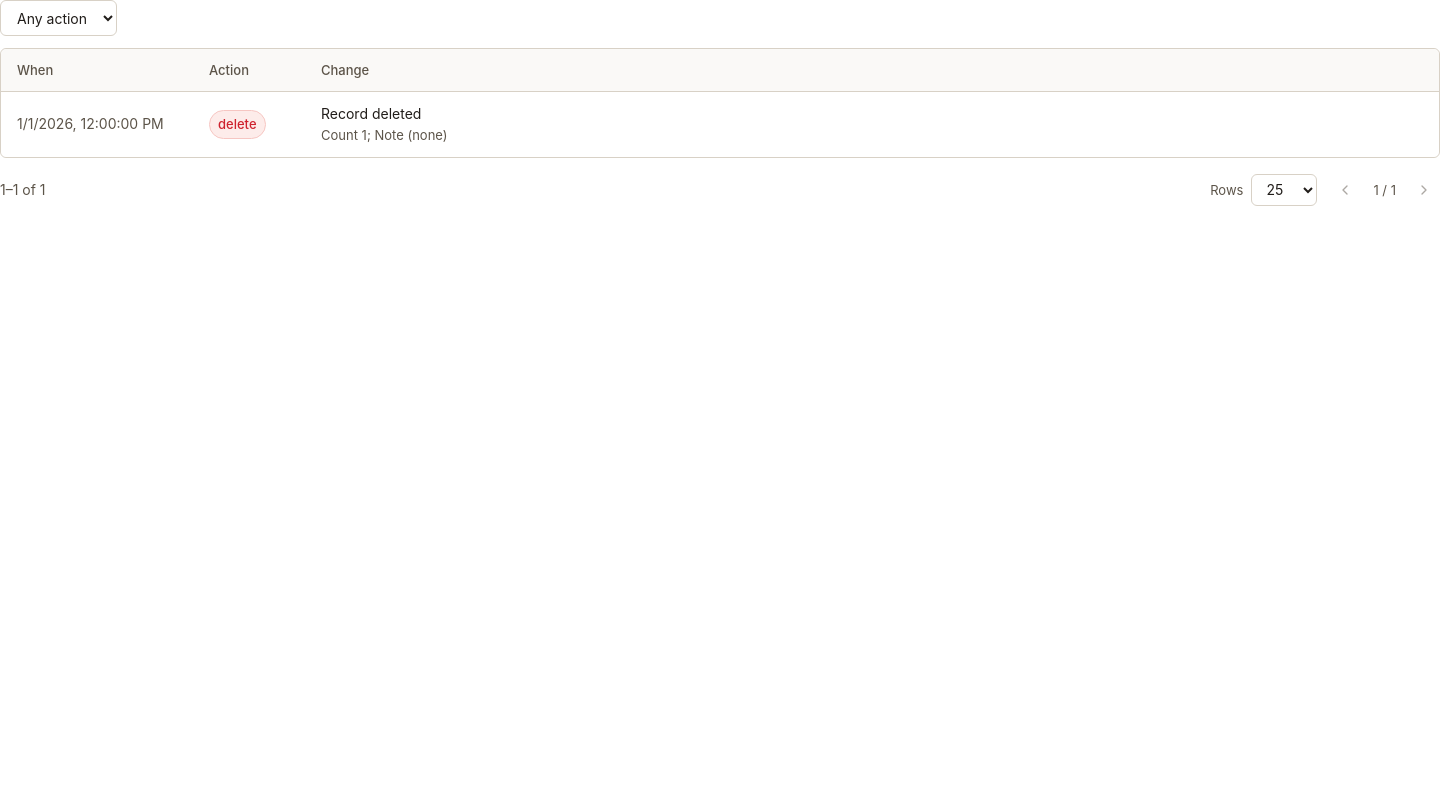
Test: AuditTrail › restores a deleted record through the restore window, which names what is in the way
The image size is (1440, 810).
Click the text "Record deleted".
click(371, 114)  # box left=321, top=105, right=421, bottom=122
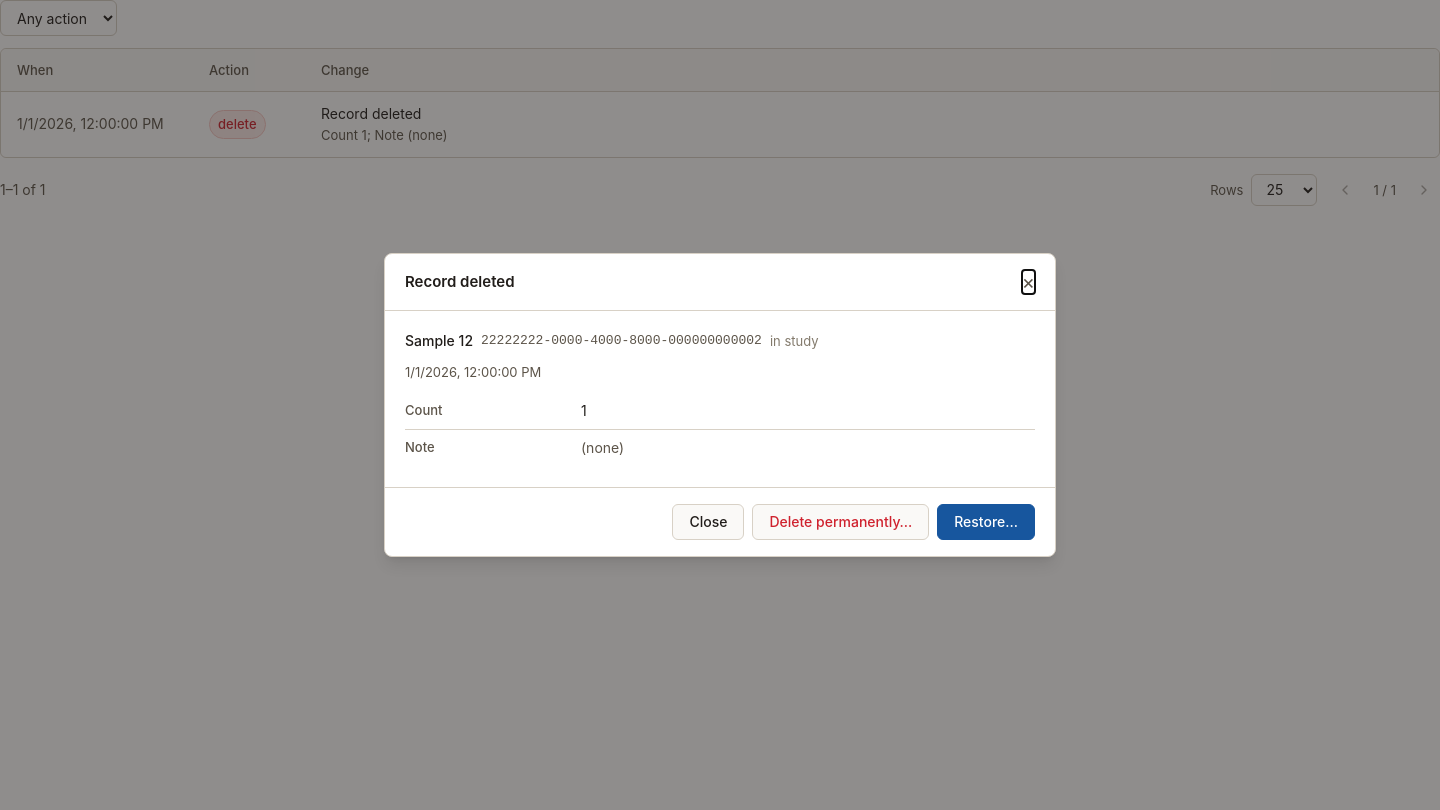
Click the button "Restore…".
click(986, 522)  # box left=937, top=504, right=1035, bottom=540
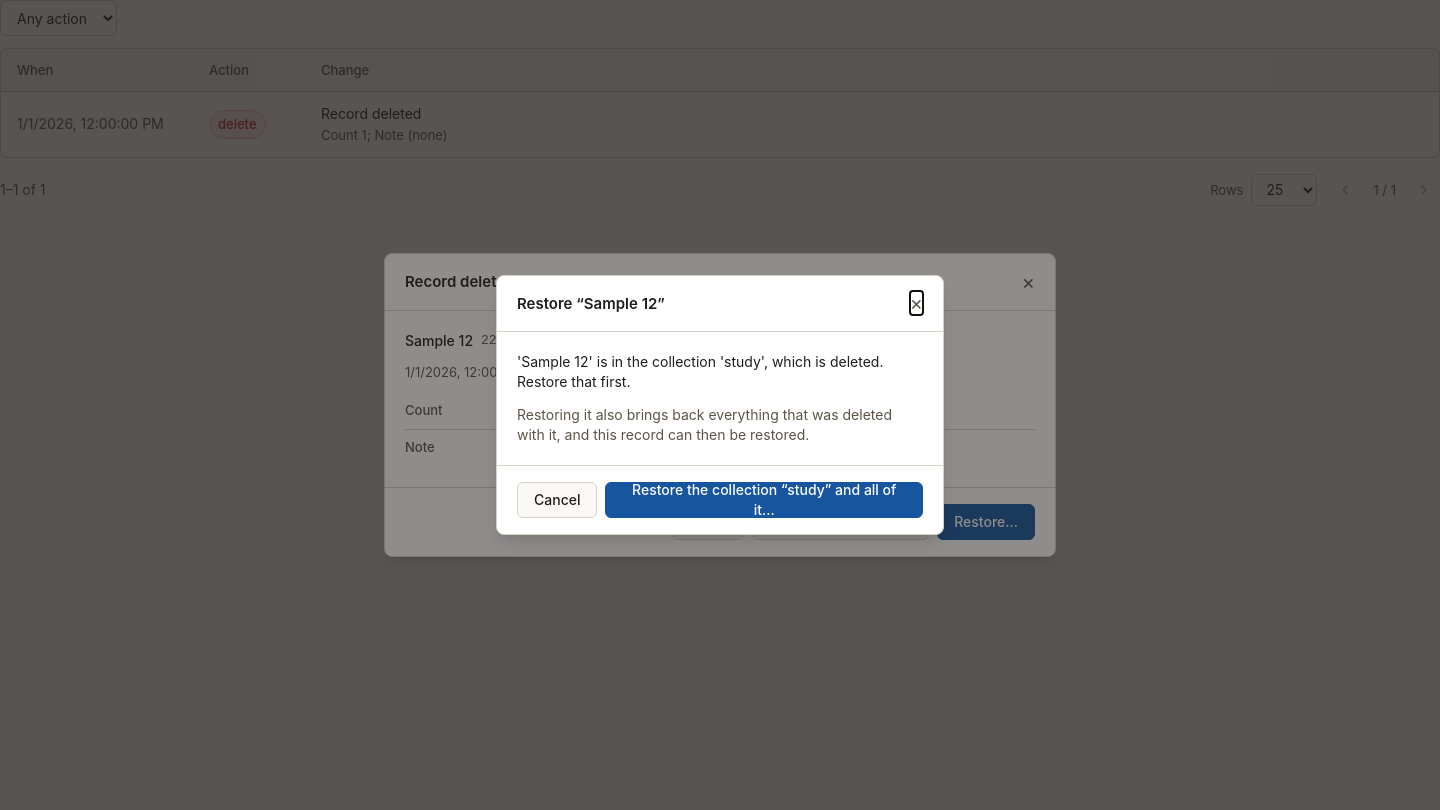
Check: the text "which is deleted" is shown, box left=517, top=353, right=884, bottom=390
Check: the button "Restore the collection “study” and all of it…" is shown, box left=606, top=482, right=923, bottom=518
